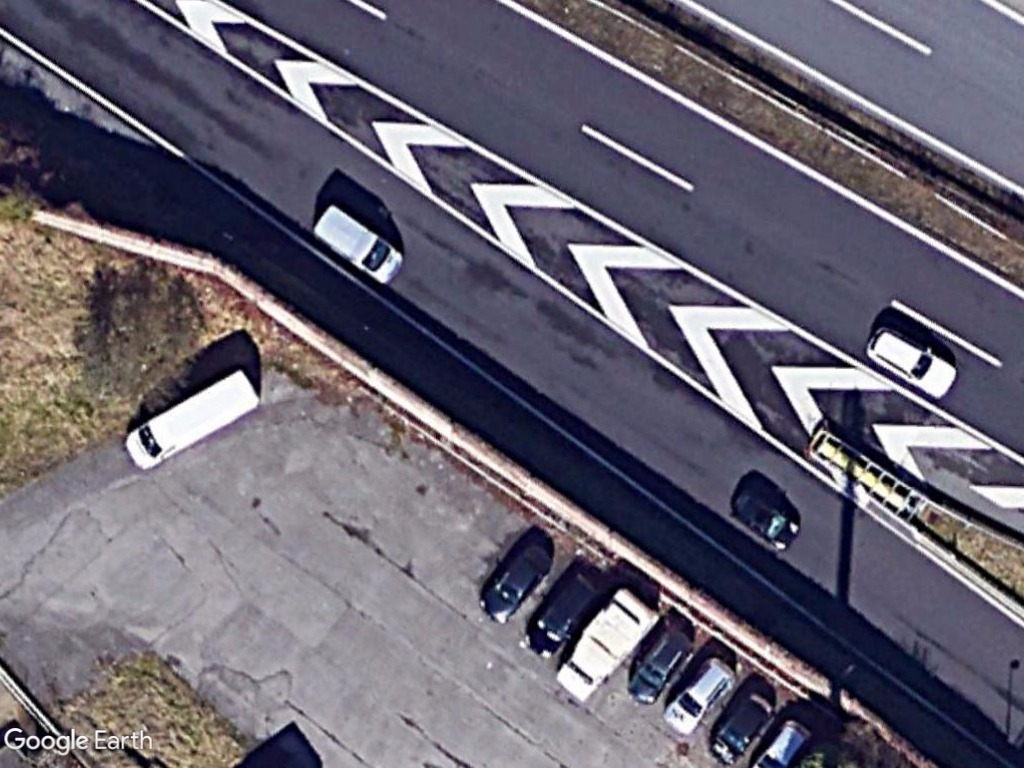car: (858, 321, 965, 400), (521, 567, 610, 660), (475, 539, 555, 627), (659, 656, 741, 740), (624, 626, 689, 714)
van: (120, 368, 265, 474), (309, 195, 405, 289)
